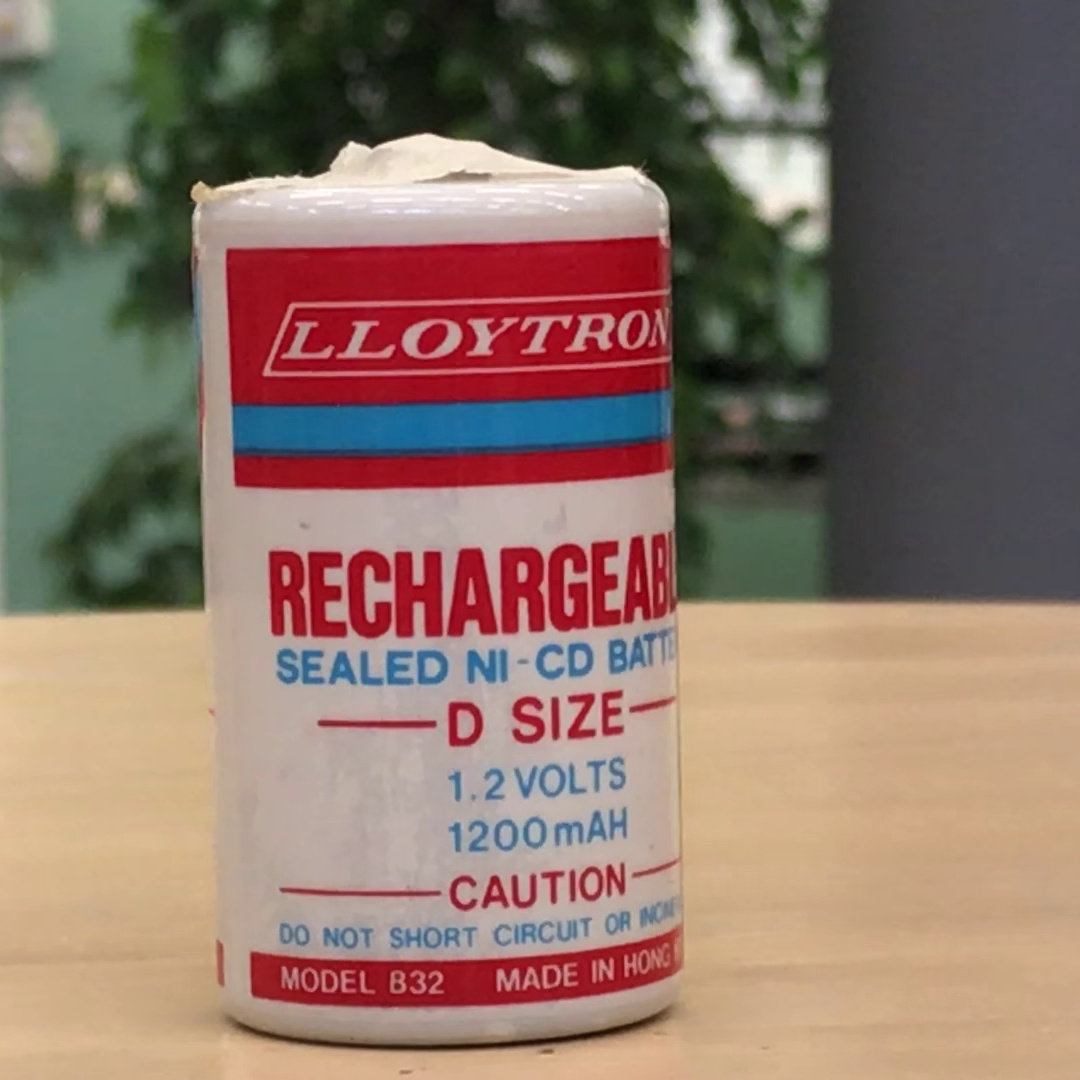keyword: (439, 757, 536, 811)
